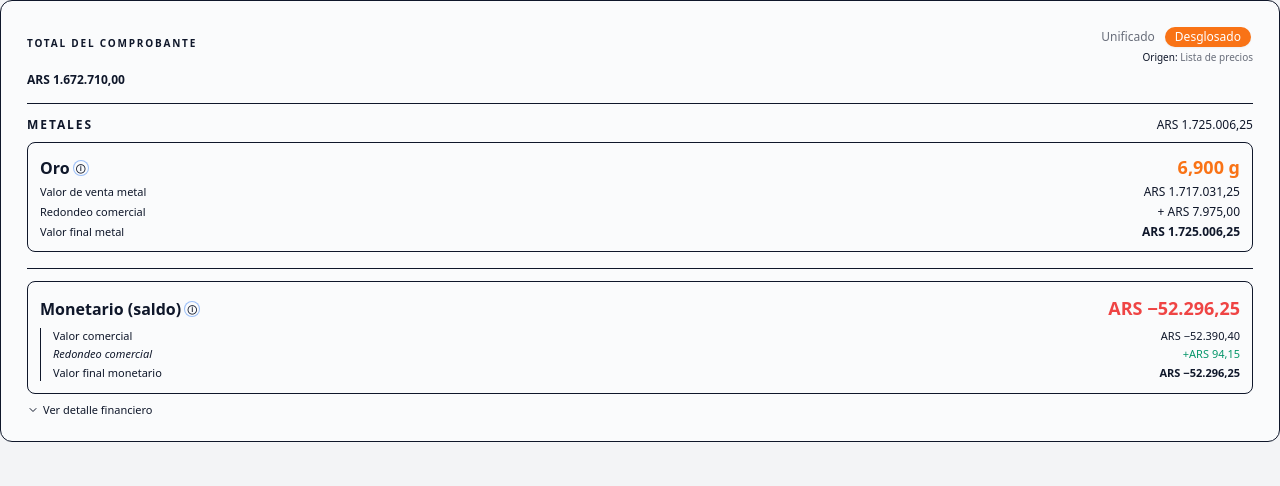
Test: DESGLOSADO autocontenido — tooltips de trazabilidad › 4b) el tooltip del monetario usa TraceTooltipBody (trace-body-monetary)
This screenshot has width=1280, height=486.
Click the button with test id "origin-tooltip-trigger-monetario-(saldo)". click: (192, 308)
box: [185, 302, 199, 316]
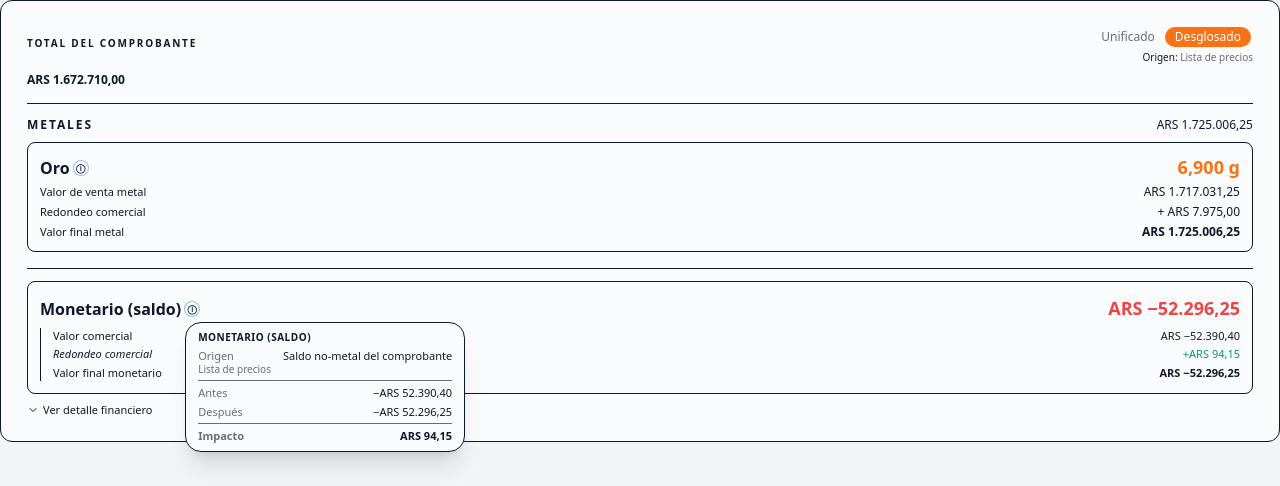
expect the element with test id "trace-body-monetary" is shown: met, box [198, 348, 452, 443]
